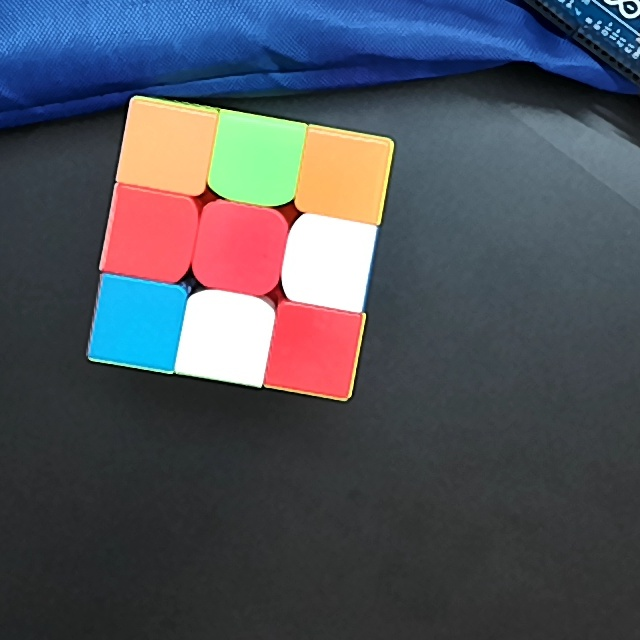tile: (101, 287, 174, 354), (309, 143, 381, 208), (204, 216, 275, 281), (190, 305, 261, 370), (118, 201, 185, 269), (298, 226, 364, 295), (132, 116, 202, 181), (282, 316, 350, 382), (222, 129, 292, 191)
